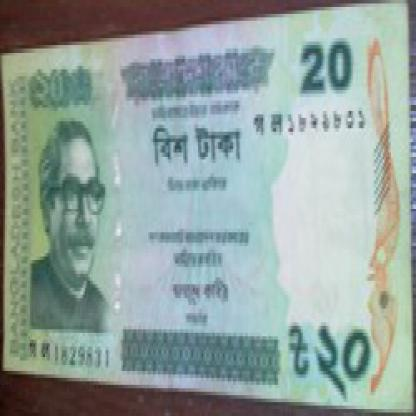Twenty: (281, 294, 381, 398), (136, 121, 256, 177), (294, 35, 362, 100), (25, 69, 100, 125)
